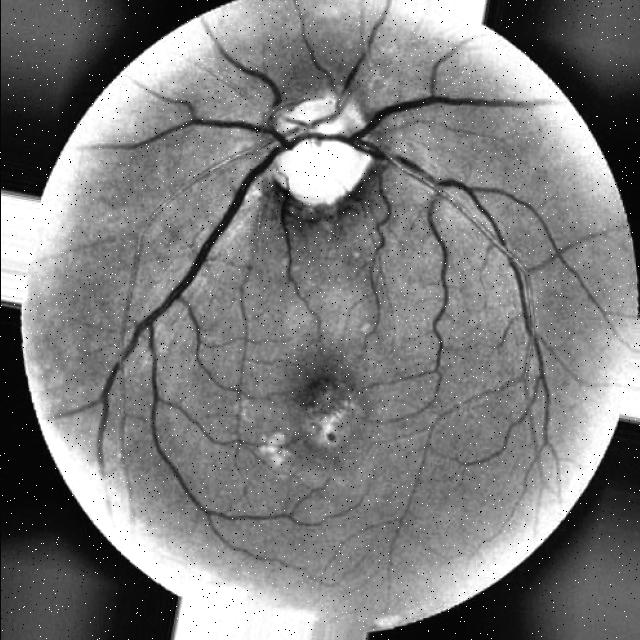Macula: (305, 379, 357, 448)
Nerves: (97, 0, 577, 515)
Optic Disk: (262, 90, 378, 209)
